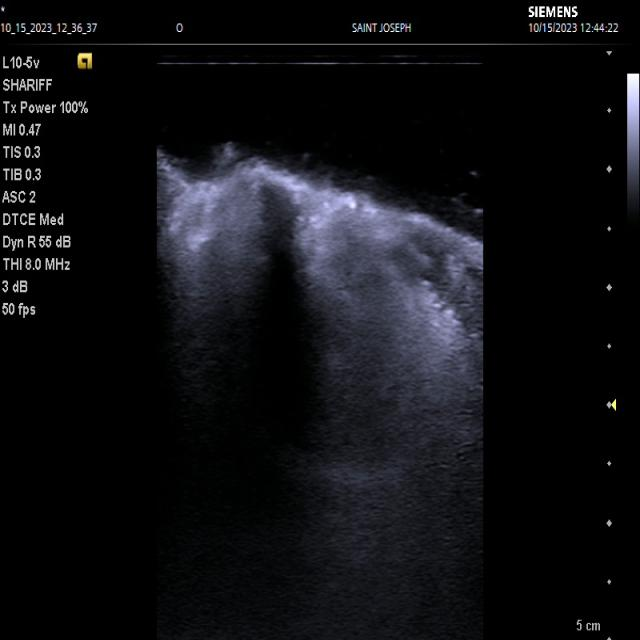tissue: (189, 168, 389, 473)
